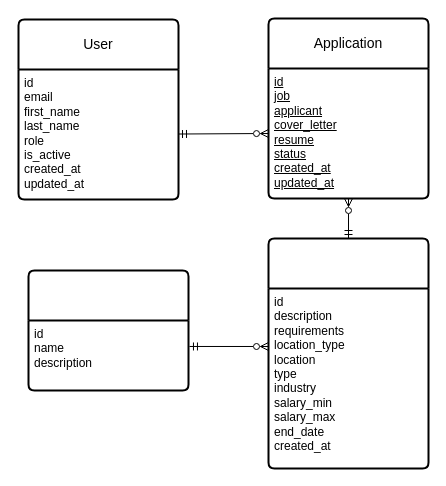
Image size: 446x486. Some labels were removed from this diagram. The shapes that lost their labels are listed below. From the top down, each one's box as (x1, y1, x2, y2) in pixels, then its label:
(27, 269, 189, 391): Industry
(267, 237, 429, 469): Job
